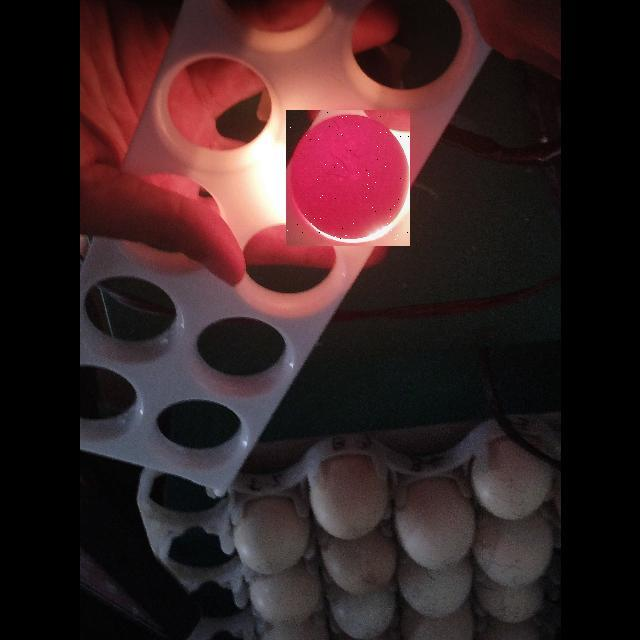Infertile: (286, 110, 410, 246)
